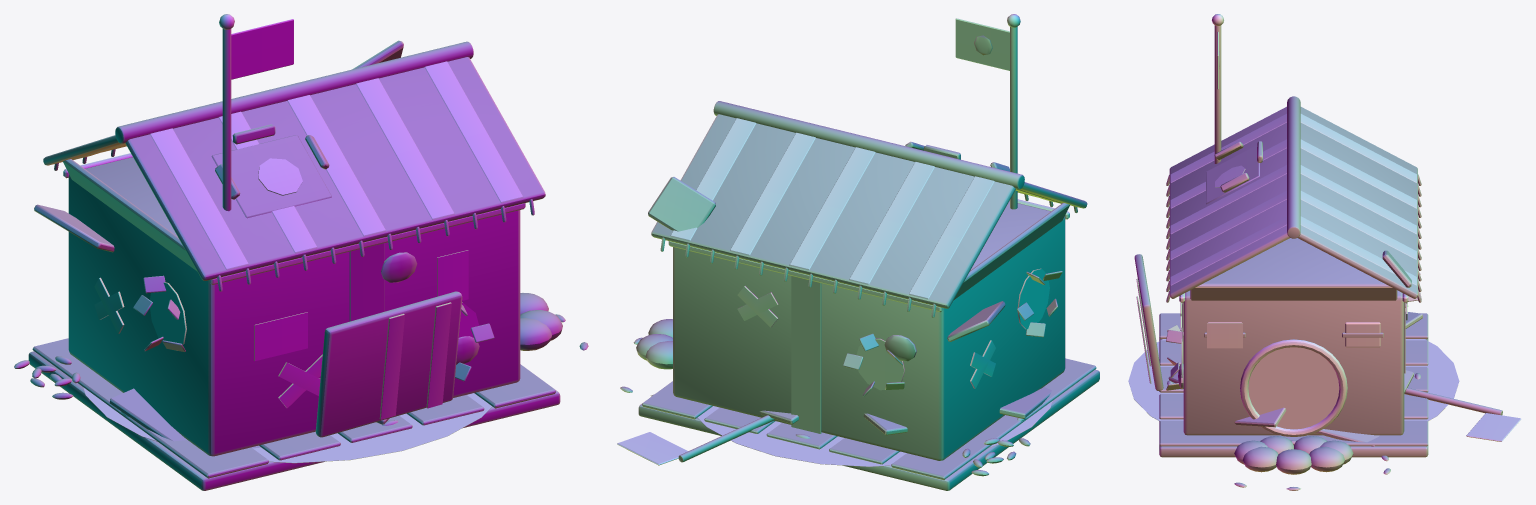
Rendered from unit_base.glb.
3 views of the same model, side by side, from view 1: azimuth 30°, elevation 25°; view 2: azimuth 150°, elevation 25°; view 3: azimuth 270°, elevation 25° (orthographic). The views are drawn at different scales.
Parts seen in each view (by area): view 1: house, dmg2, wreck, dmg1, flag, pole; view 2: house, wreck, dmg2, dmg1, flag, pole; view 3: house, wreck, dmg2, pole, dmg1.
Part boxes in pixels (x1=…): house: x1=14, y1=41, x2=562, y2=490; dmg2: x1=34, y1=124, x2=494, y2=437; wreck: x1=83, y1=387, x2=492, y2=463; dmg1: x1=94, y1=40, x2=588, y2=408; flag: x1=231, y1=19, x2=293, y2=79; pole: x1=219, y1=14, x2=234, y2=211; house: x1=636, y1=101, x2=1099, y2=490; wreck: x1=617, y1=387, x2=1052, y2=466; dmg2: x1=843, y1=141, x2=1062, y2=396; dmg1: x1=620, y1=177, x2=995, y2=396; flag: x1=955, y1=18, x2=1009, y2=70; pole: x1=1007, y1=14, x2=1020, y2=209; house: x1=1159, y1=96, x2=1428, y2=474; wreck: x1=1128, y1=312, x2=1521, y2=446; dmg2: x1=1134, y1=141, x2=1421, y2=390; pole: x1=1212, y1=14, x2=1223, y2=163; dmg1: x1=1178, y1=250, x2=1411, y2=490.
Size of the model in its own units: 3.1 by 2.66 by 2.85.
